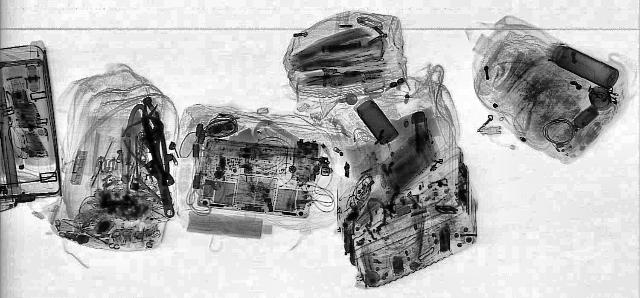Wrench: (134, 115, 182, 217)
